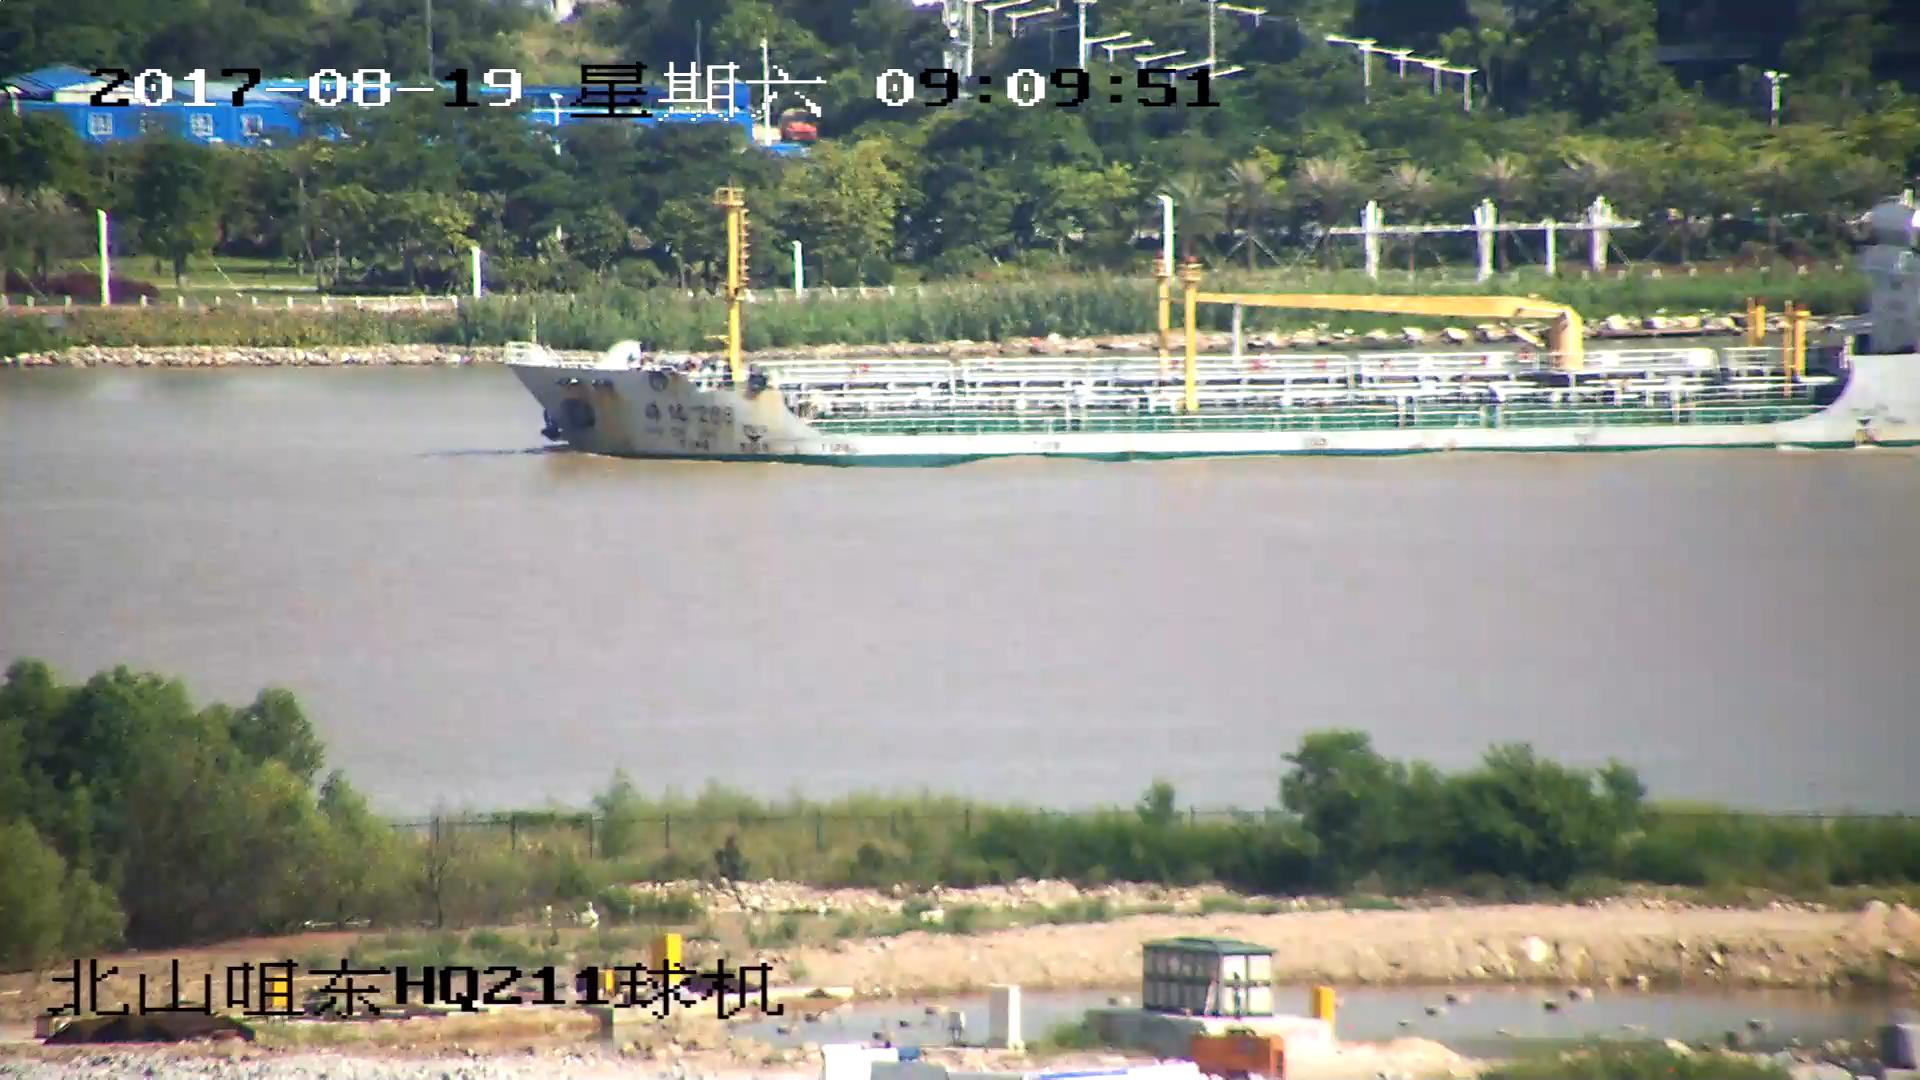general cargo ship: (503, 210, 1920, 455)
